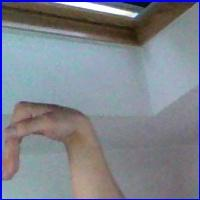del: (5, 98, 94, 183)
